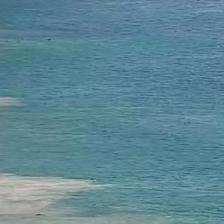surfer: (89, 177, 96, 181), (46, 38, 52, 42)
